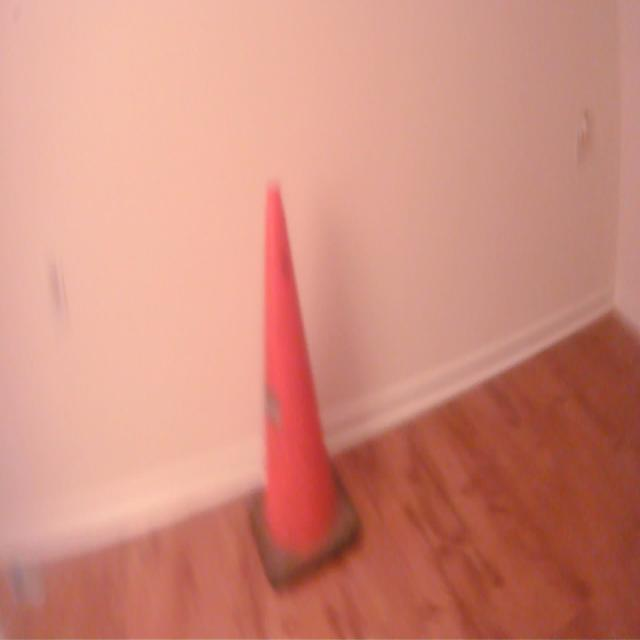traffic cone: (245, 175, 365, 598)
